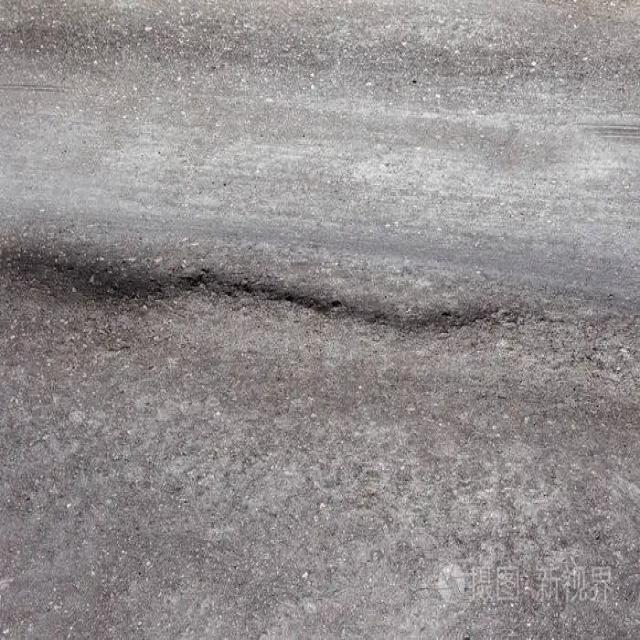Pothole: (8, 247, 624, 377)
